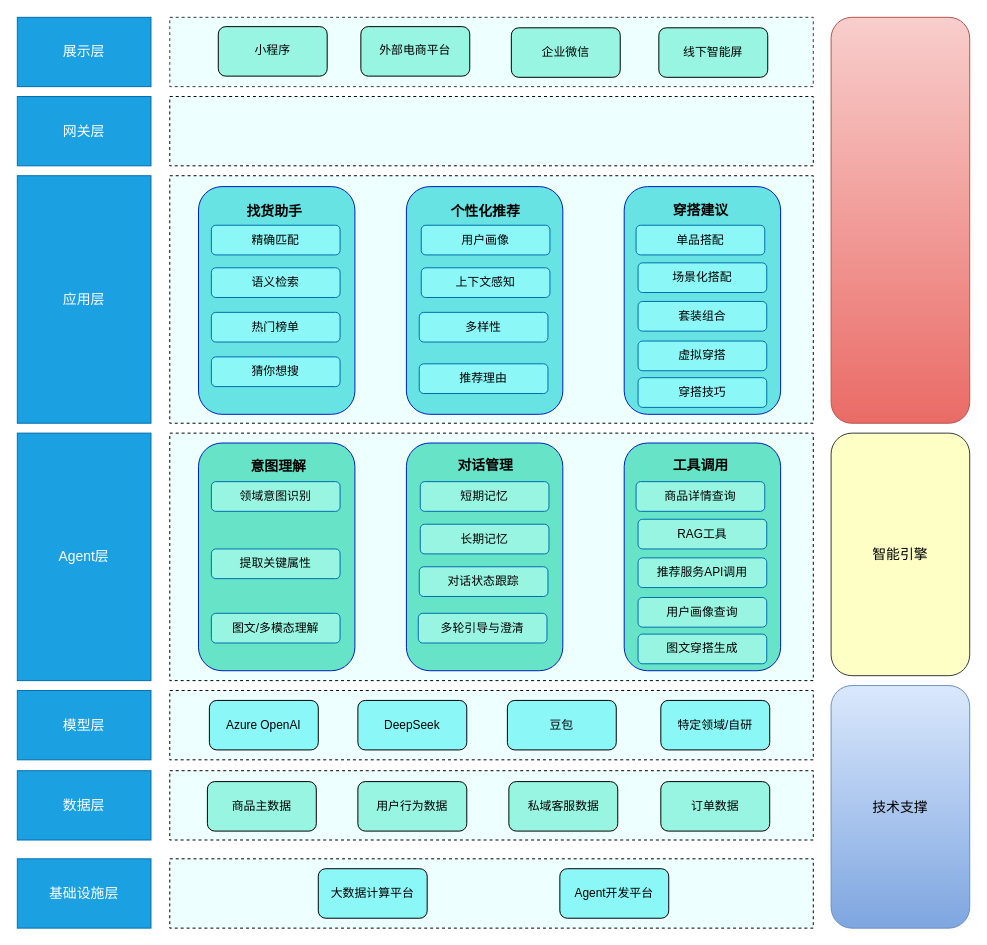
The diagram is 987 pixels wide and 945 high, and some of its shapes have lost their labels. Each missing label, with the centre of its shape:
API GateWay 接口鉴权(JWT)、限流、熔断: (491,131)
功能体验: (900,219)
